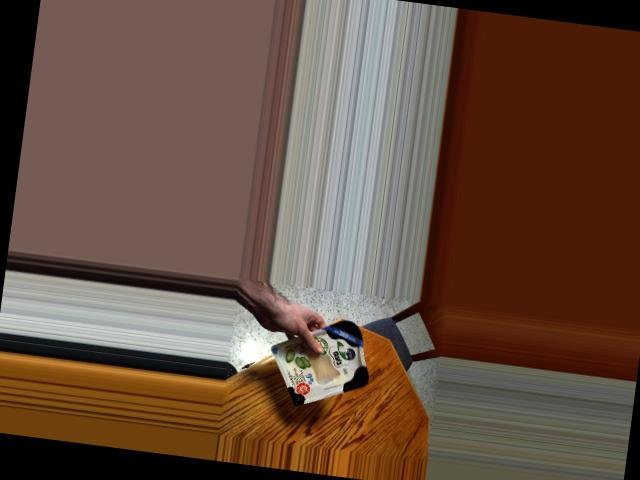cheese: (275, 307, 377, 409)
